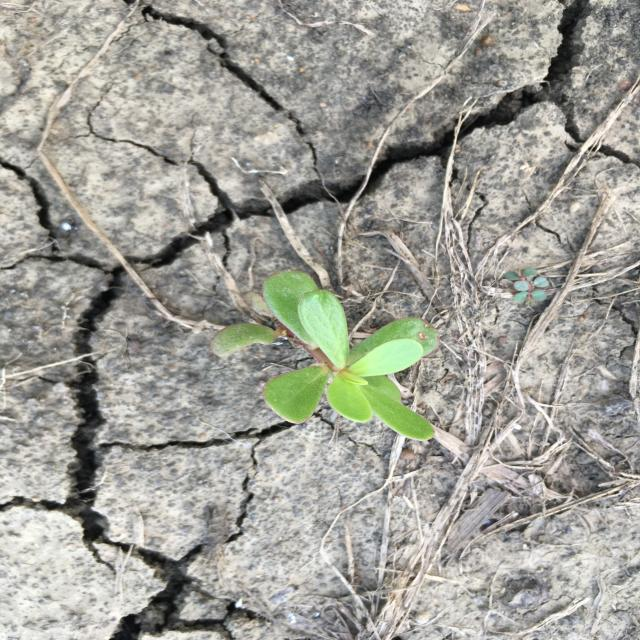Purslane: (206, 267, 444, 444)
SpottedSpurge: (505, 267, 553, 311)
